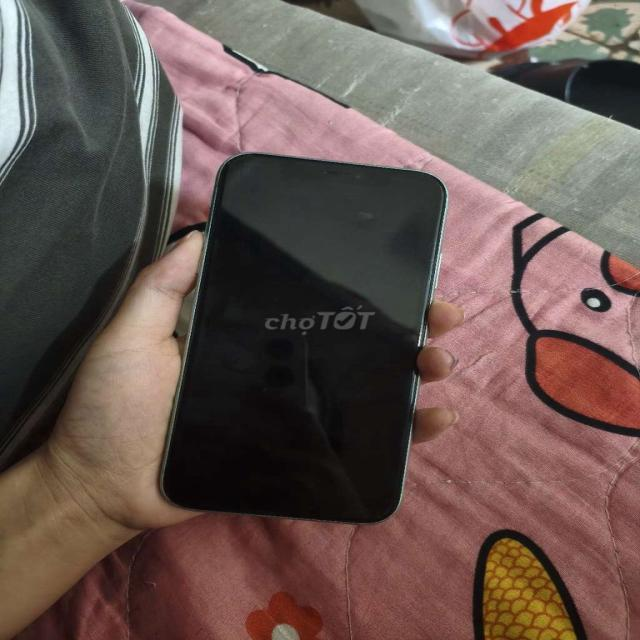gen_11: (145, 143, 456, 528)
